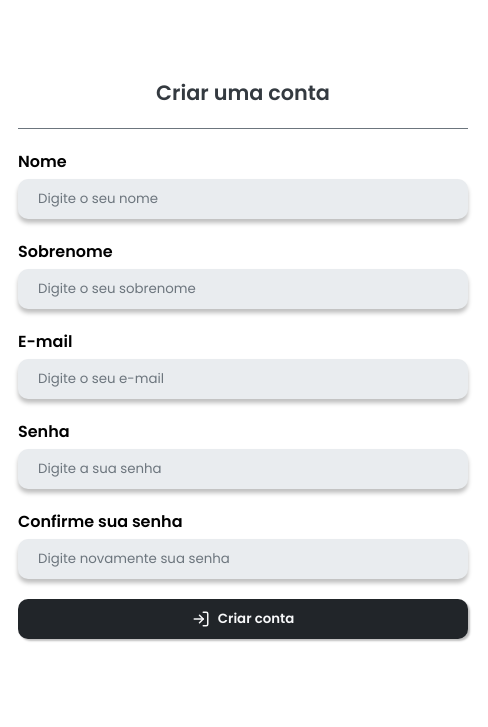
Test: Sign Up › should show error when password has less then 6 characters
Type "123" into the password field with placeholder "Digite a sua senha" at (243, 469), box top-left (18, 449), bottom-right (468, 489)
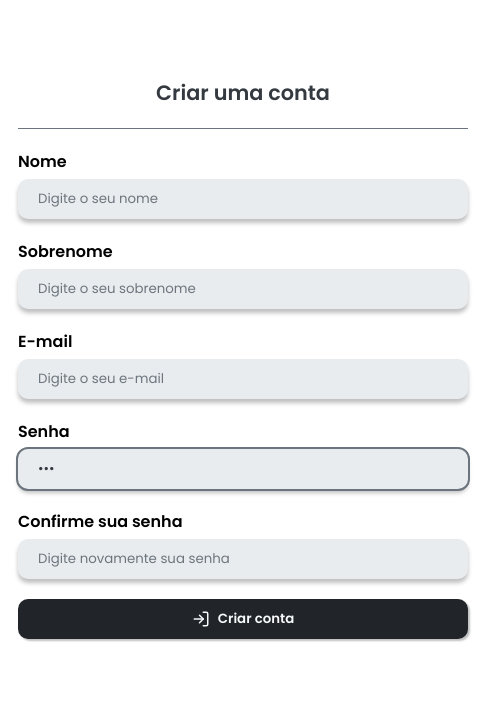
Click the button "Criar conta" at (243, 619), box top-left (18, 599), bottom-right (468, 639)
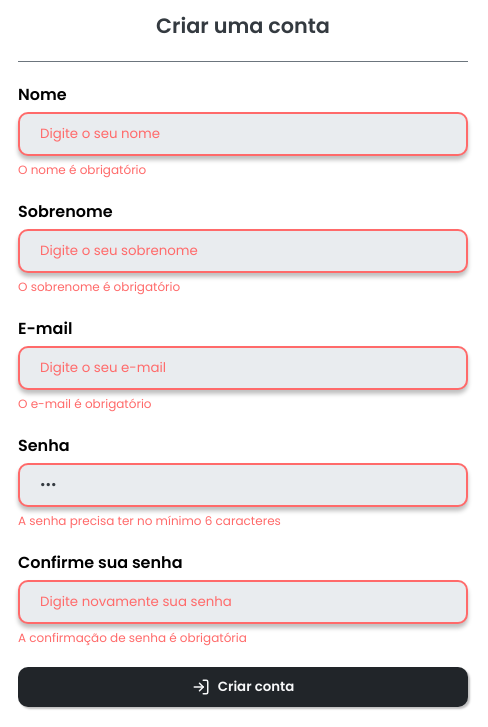
Result: the text "A senha precisa ter no mínimo 6 caracteres" is shown at top-left (18, 512), bottom-right (281, 528)
